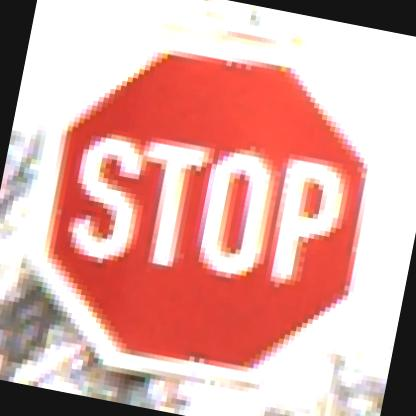stop: (21, 13, 404, 409)
